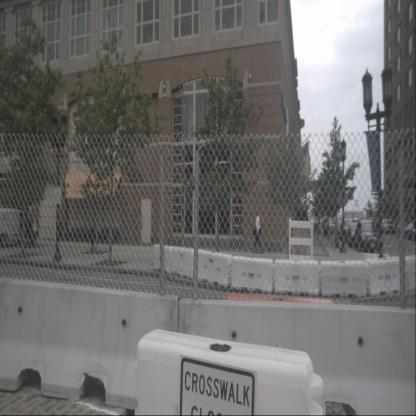barrier: (174, 298, 416, 416), (0, 270, 179, 415), (135, 328, 326, 416), (319, 260, 368, 298), (272, 258, 321, 296), (230, 254, 275, 294), (367, 256, 408, 297), (194, 248, 232, 288), (171, 246, 197, 280), (153, 244, 175, 275), (403, 254, 415, 295)
